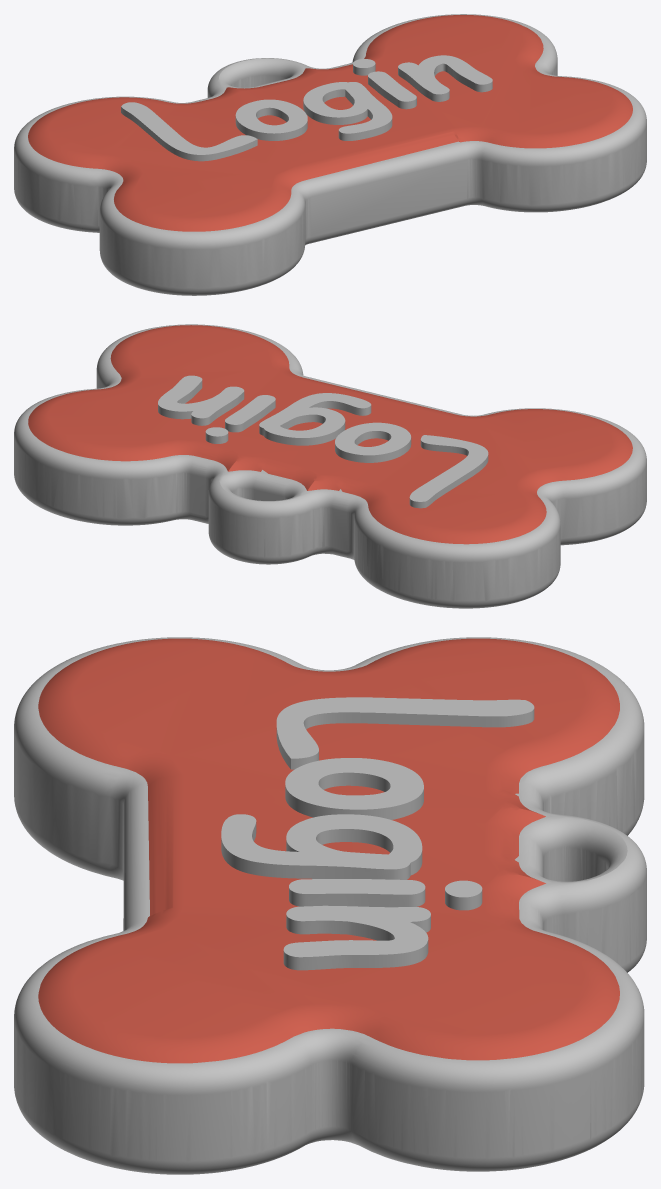
Rendered from Bone_login.glb.
The picture shows the model from 3 angles, top to bottom: view 1: azimuth 30°, elevation 25°; view 2: azimuth 150°, elevation 25°; view 3: azimuth 270°, elevation 25°; orthographic projection. The views are drawn at different scales.
Size of the model in its own units: 0.0438 by 0.0061 by 0.0264.
